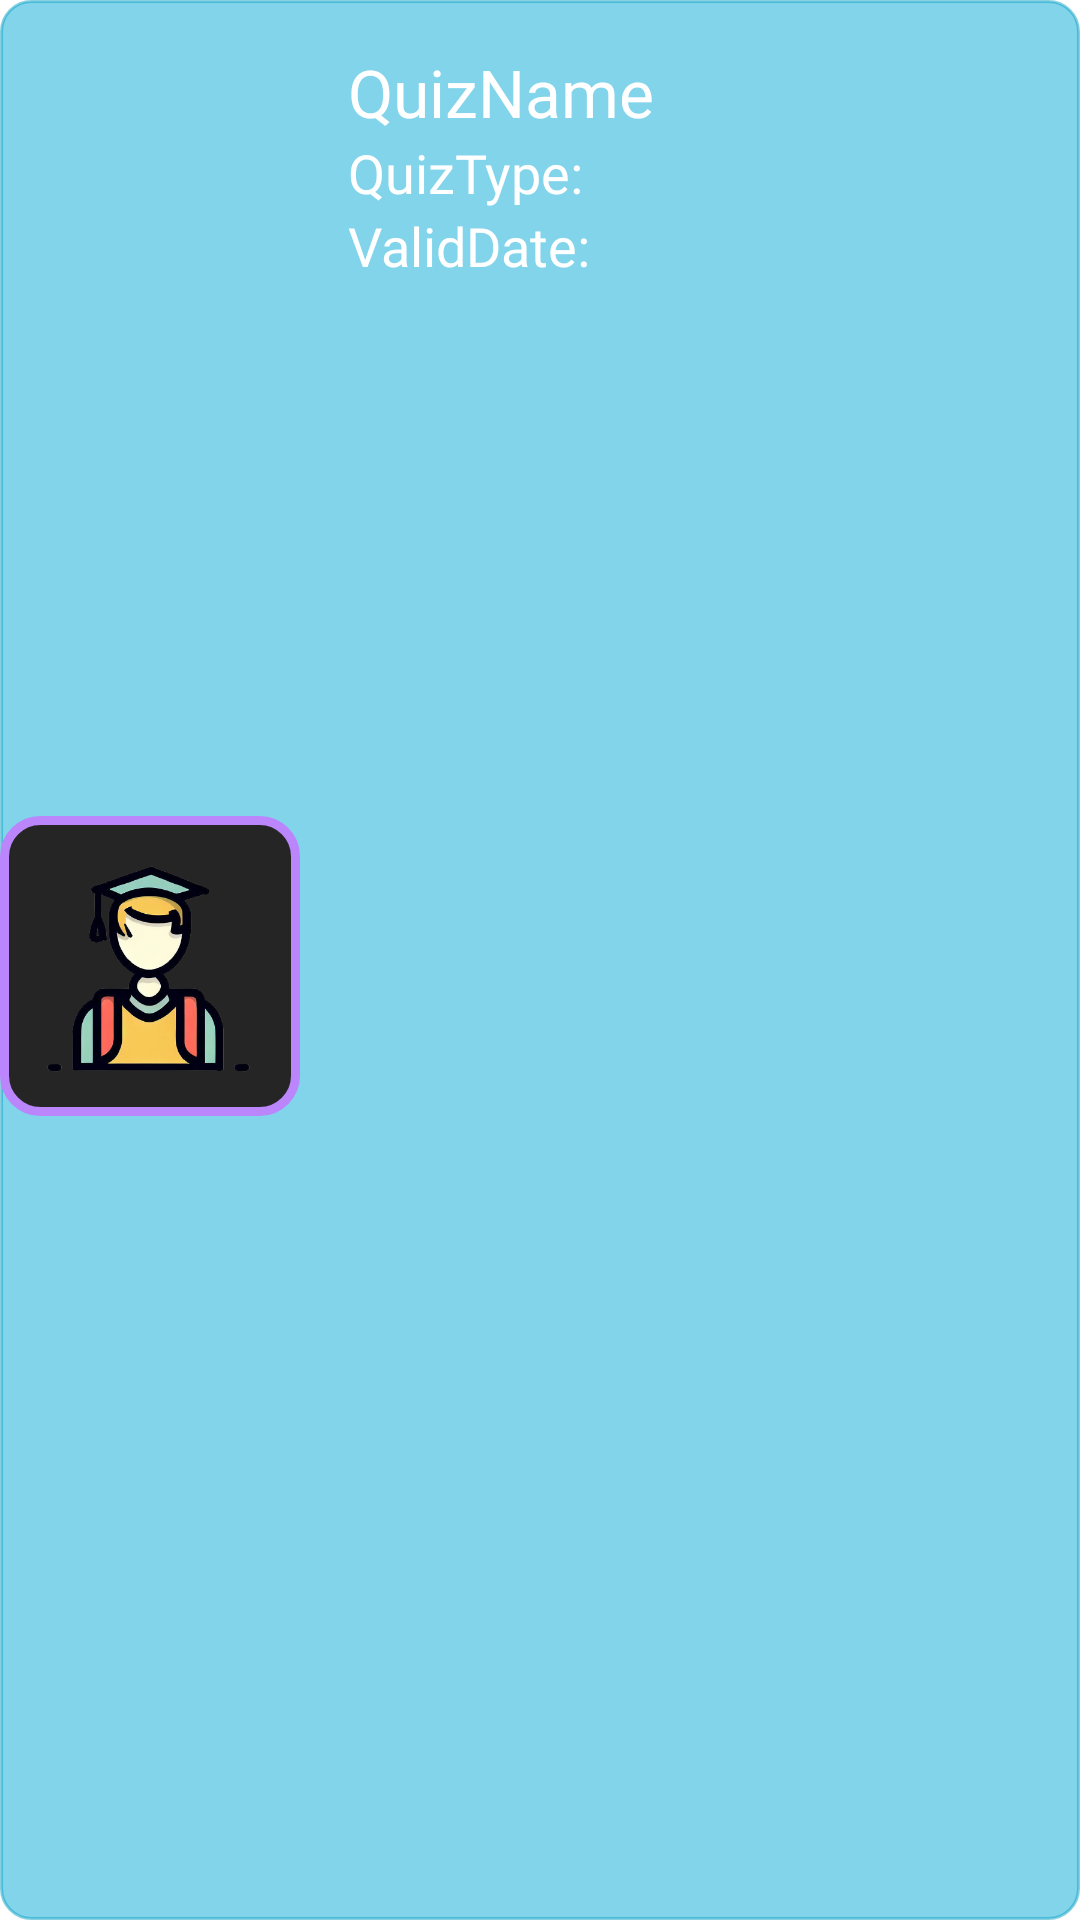

Named icons in this screenshot (1080*1920) and their bounding boxes, [x1,y1,x2,y2]:
student: [0,816,300,1116]
